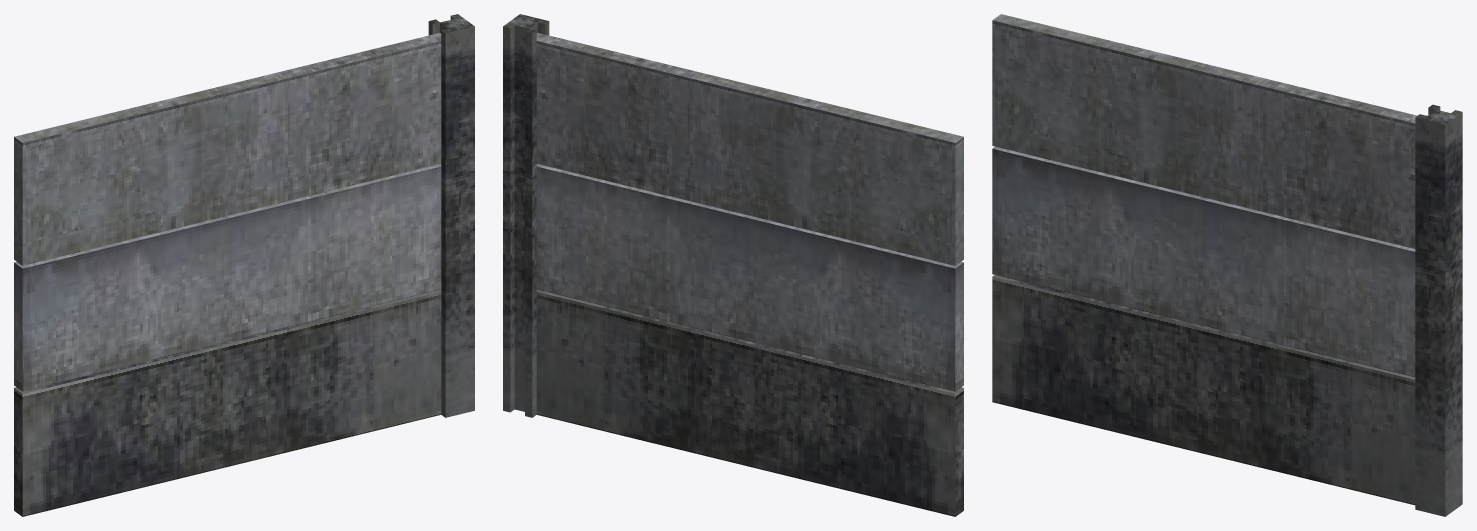
File: lf_plackard_corner.glb
3 views of the same model, side by side, from view 1: azimuth 30°, elevation 25°; view 2: azimuth 150°, elevation 25°; view 3: azimuth 330°, elevation 25° (orthographic). The views are drawn at different scales.
Visible parts, largest first — view 1: plackard_corner; view 2: plackard_corner; view 3: plackard_corner.
Boxes of the visible parts, bbox=[...] form: plackard_corner: bbox=[14, 14, 474, 516]; plackard_corner: bbox=[503, 14, 963, 516]; plackard_corner: bbox=[992, 14, 1462, 516].
Size of the model in its own units: 3.05 by 2.5 by 0.1999.
Materials: 1 (1 with a texture image).
